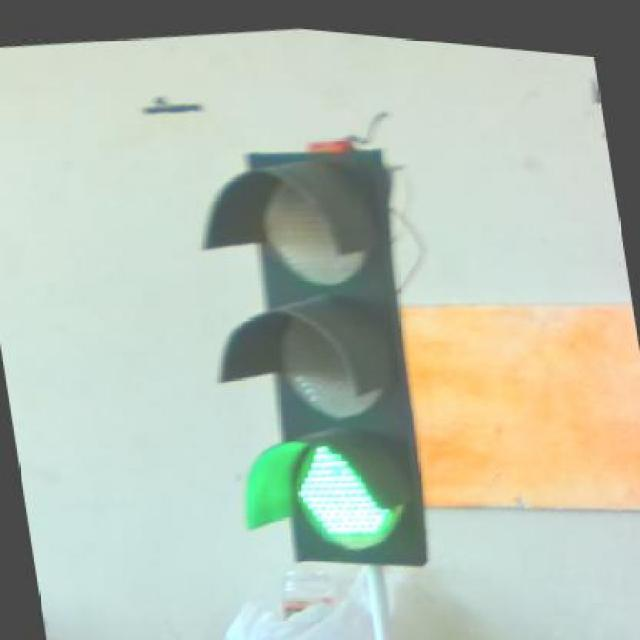Lampu Hijau: (183, 123, 446, 582)
